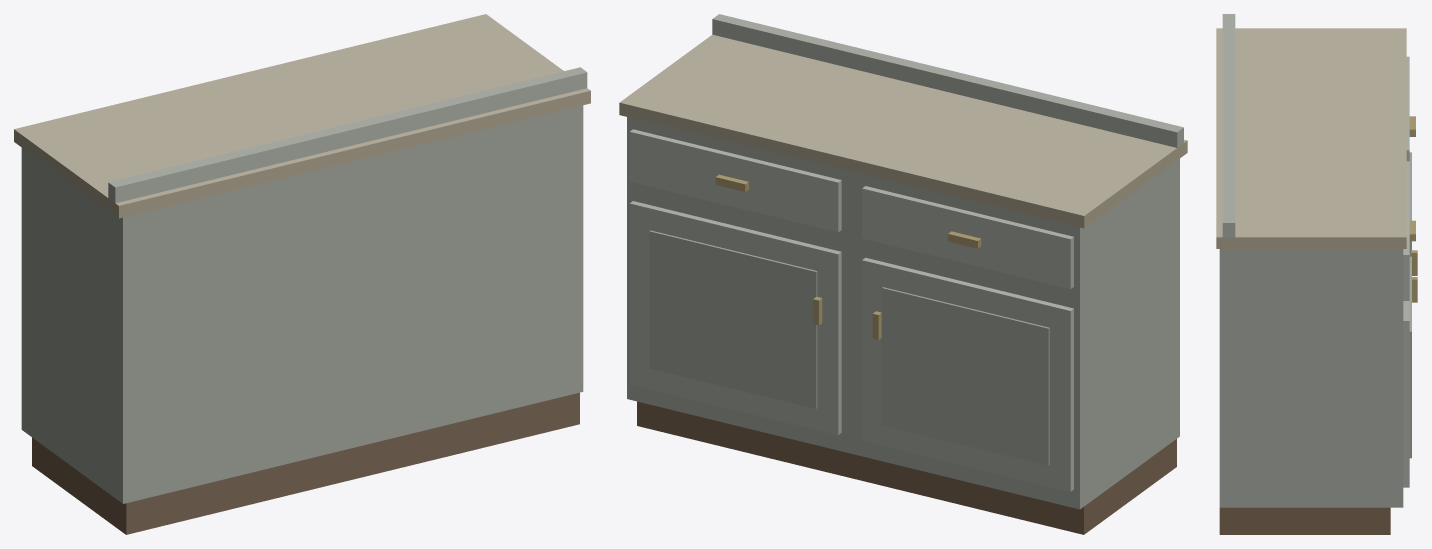
Rendered from kuechenanrichte_niedrig.glb.
The picture shows the model from 3 angles, left to right: view 1: azimuth 30°, elevation 25°; view 2: azimuth 150°, elevation 25°; view 3: azimuth 270°, elevation 25°; orthographic projection. The views are drawn at different scales.
Visible parts, largest first — view 1: anrichte; view 2: anrichte; view 3: anrichte.
Part boxes in pixels (x1=…): anrichte: x1=14, y1=14, x2=590, y2=534; anrichte: x1=619, y1=14, x2=1187, y2=534; anrichte: x1=1216, y1=14, x2=1417, y2=534.
Size of the model in its own units: 1.56 by 1.1 by 0.635.
